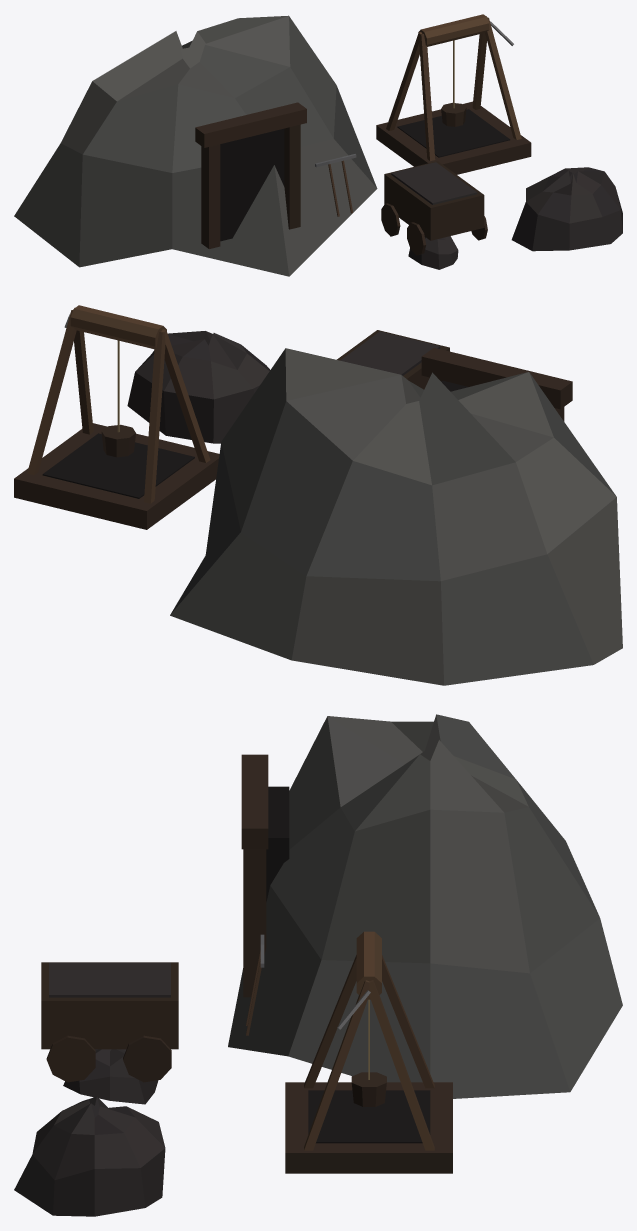
Rendered from walk_tidebound_mine.glb.
3 renders of one model, top to bottom at view 1: azimuth 30°, elevation 25°; view 2: azimuth 150°, elevation 25°; view 3: azimuth 270°, elevation 25°, orthographic. The views are drawn at different scales.
Parts seen in each view (by area): view 1: walk_tidebound_mine; view 2: walk_tidebound_mine; view 3: walk_tidebound_mine.
Boxes of the visible parts, box(x1,y1,x2,y2) form: walk_tidebound_mine: box(14, 14, 622, 276); walk_tidebound_mine: box(14, 305, 622, 685); walk_tidebound_mine: box(14, 714, 622, 1216).
Size of what is drawn, in the model's own units: 10.55 by 4.37 by 7.99.
2 materials, 2 textured.
